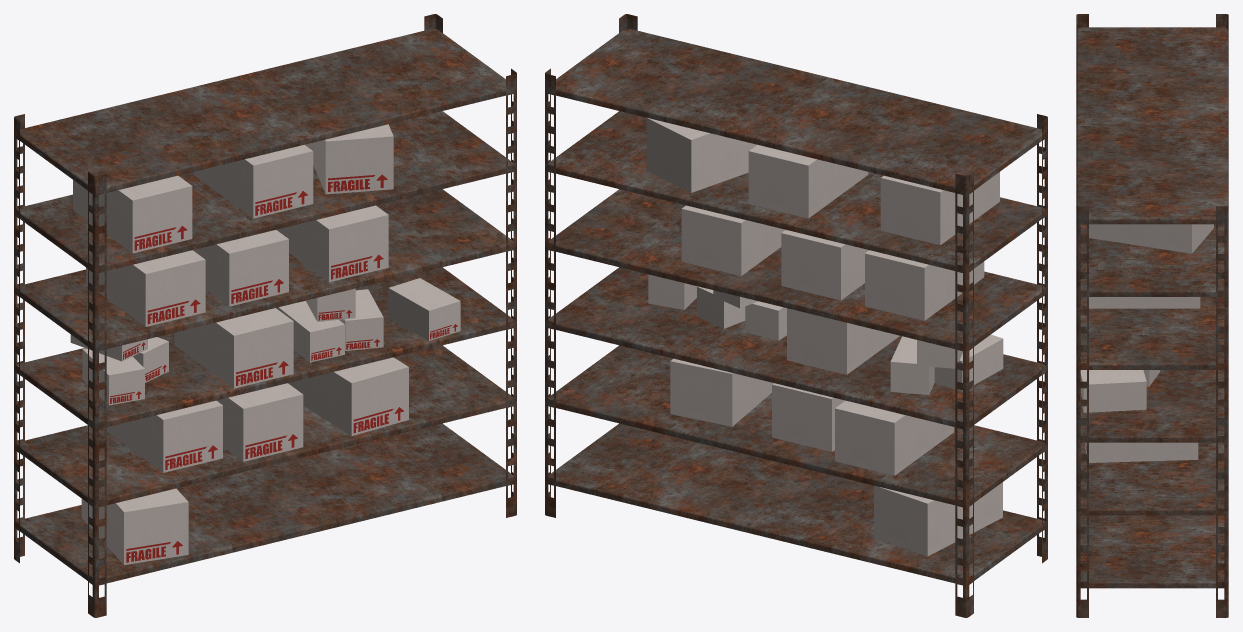
The model's file is rusty_metal_shelving.glb.
The picture shows the model from 3 angles, left to right: view 1: azimuth 30°, elevation 25°; view 2: azimuth 150°, elevation 25°; view 3: azimuth 270°, elevation 25°; orthographic projection. The views are drawn at different scales.
Visible parts, largest first — view 1: Material2 (×26); view 2: Material2 (×26); view 3: Material2 (×14).
Part boxes in pixels (x1,y1,x2,y2): Material2 (×26): (14,29,516,617); Material2 (×26): (545,29,1047,617); Material2 (×14): (1076,14,1228,617).
Bounding box in the file's own units: 72.13 × 72 × 24.13.
Materials: 4 (3 with a texture image).
